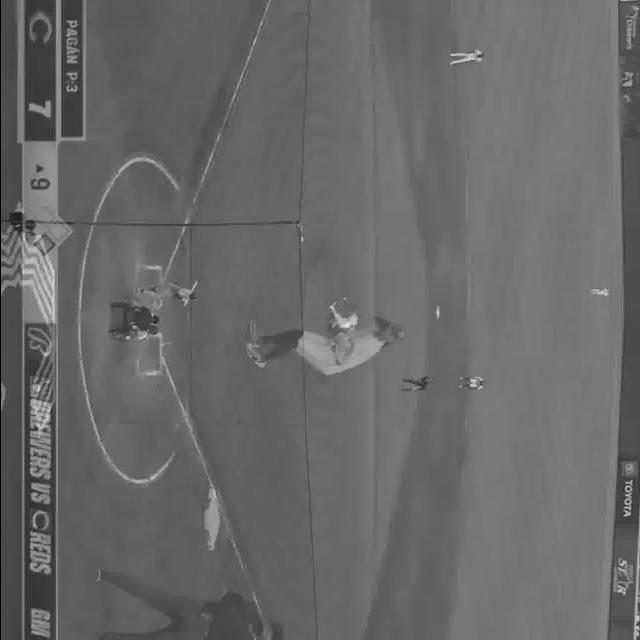base: (199, 480, 221, 547), (431, 307, 441, 328)
shoe: (244, 323, 268, 377)
